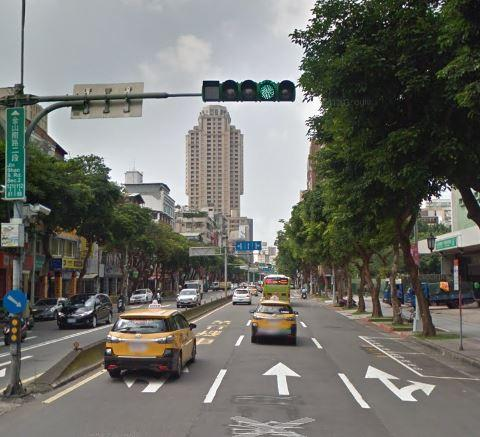green_traffic_light: (204, 77, 296, 103)
